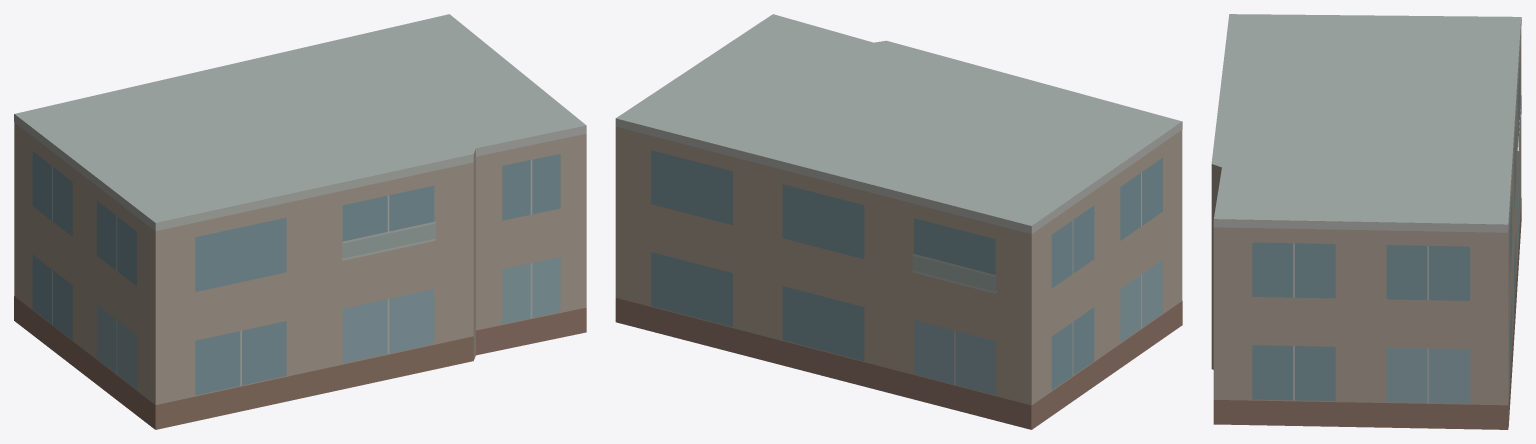
File: survey-upis-32656045.glb
The picture shows the model from 3 angles, left to right: view 1: azimuth 30°, elevation 25°; view 2: azimuth 150°, elevation 25°; view 3: azimuth 270°, elevation 25°; orthographic projection.
Visible parts, largest first — view 1: survey-upis-32656045.tmp; view 2: survey-upis-32656045.tmp; view 3: survey-upis-32656045.tmp.
Boxes of the visible parts, x1,y1,x2,y2 form: survey-upis-32656045.tmp: (14, 14, 586, 429); survey-upis-32656045.tmp: (615, 14, 1182, 429); survey-upis-32656045.tmp: (1211, 14, 1521, 429).
Bounding box in the file's own units: 13.42 × 6.1 × 8.36.
